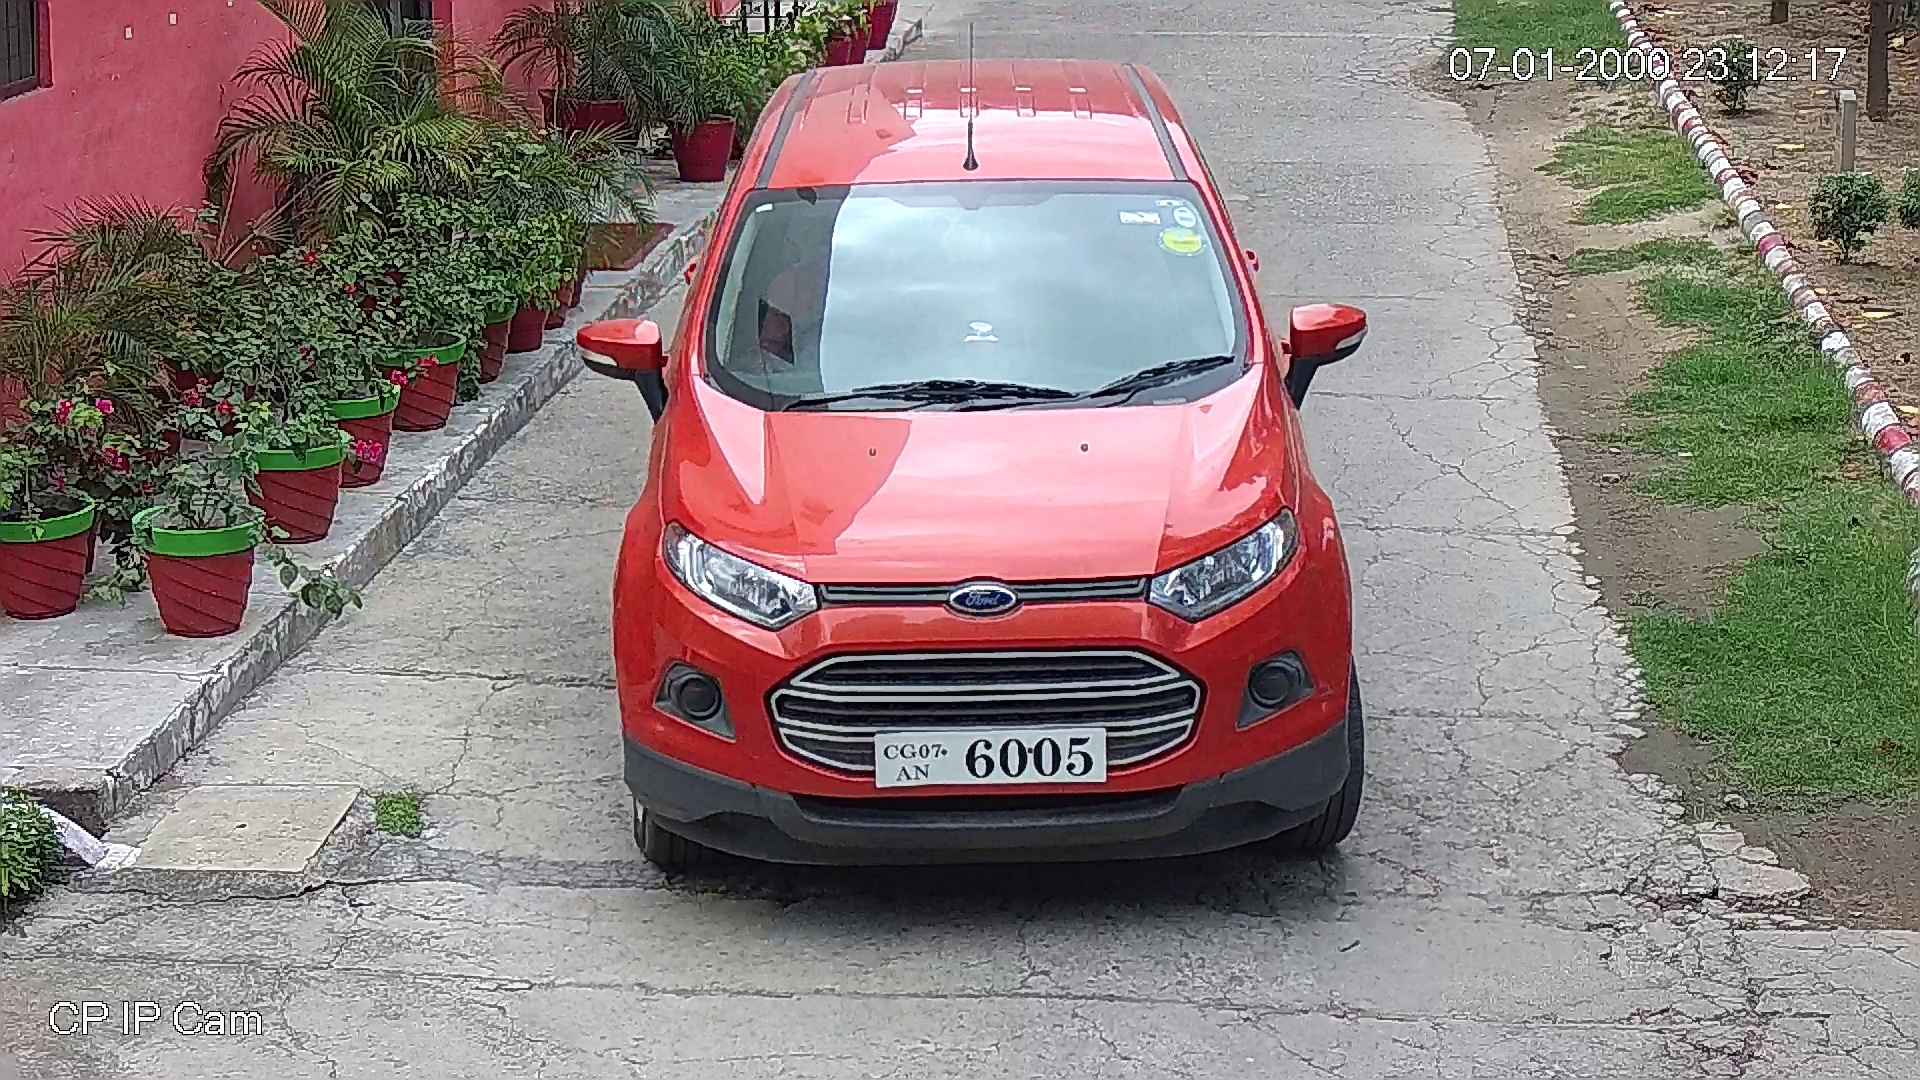plate: (871, 722, 1110, 788)
